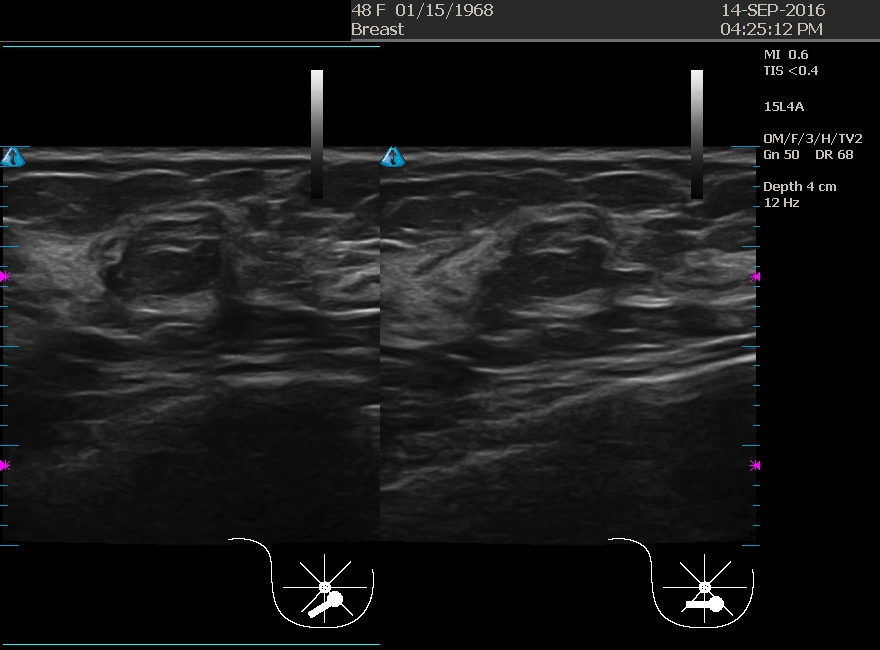BIRADS_3: (42, 221, 242, 421), (454, 186, 654, 386)
